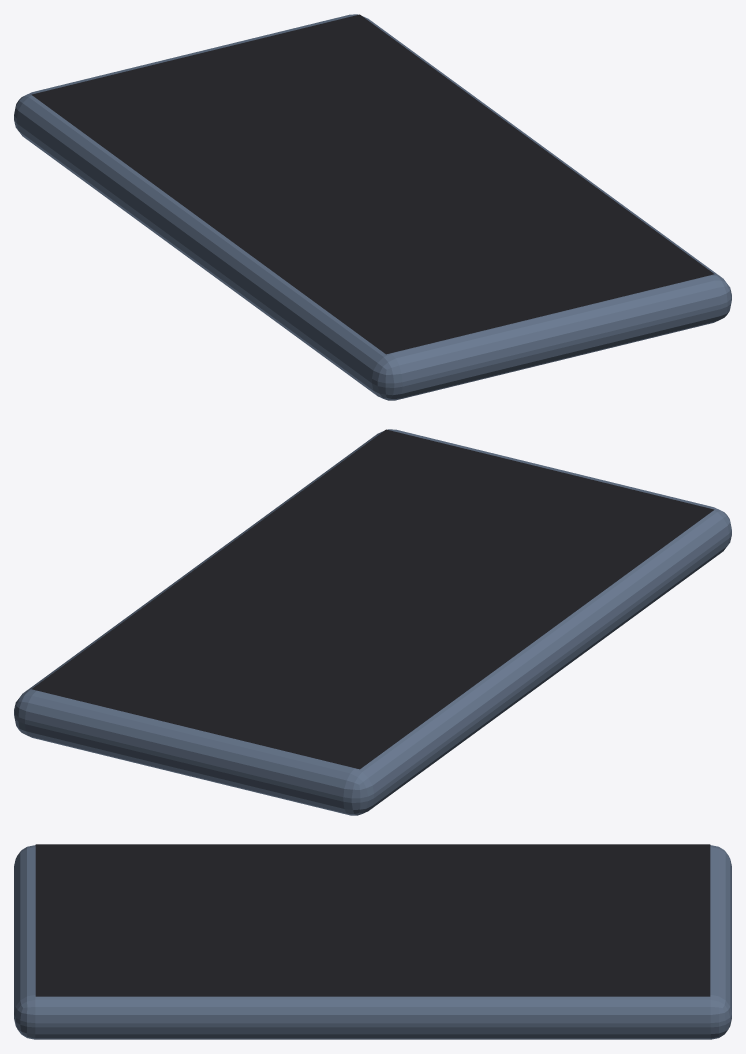
Rendered from google-pixel-a-model-381-flagship-2021.glb.
3 views of the same model, one above another, from view 1: azimuth 30°, elevation 25°; view 2: azimuth 150°, elevation 25°; view 3: azimuth 270°, elevation 25° (orthographic). The views are drawn at different scales.
Parts seen in each view (by area): view 1: Phone_Screen, Phone_Body; view 2: Phone_Screen, Phone_Body; view 3: Phone_Screen, Phone_Body.
Boxes of the visible parts, x1,y1,x2,y2 form: Phone_Screen: (31,14,714,354); Phone_Body: (14,14,731,400); Phone_Screen: (31,429,714,769); Phone_Body: (14,429,731,815); Phone_Screen: (35,844,710,996); Phone_Body: (14,845,731,1039).
Size of the model in its own units: 0.0778 by 0.0095 by 0.1424.
